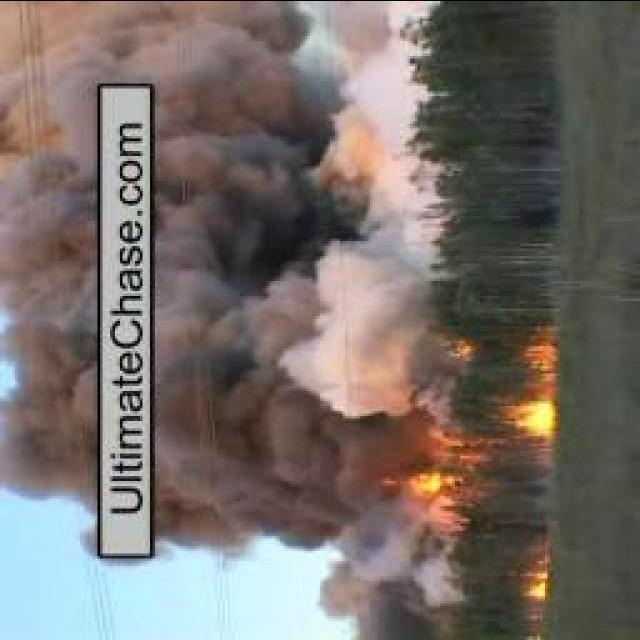Fire: (387, 466, 450, 502), (500, 398, 555, 434), (529, 560, 548, 602), (529, 336, 559, 361)
